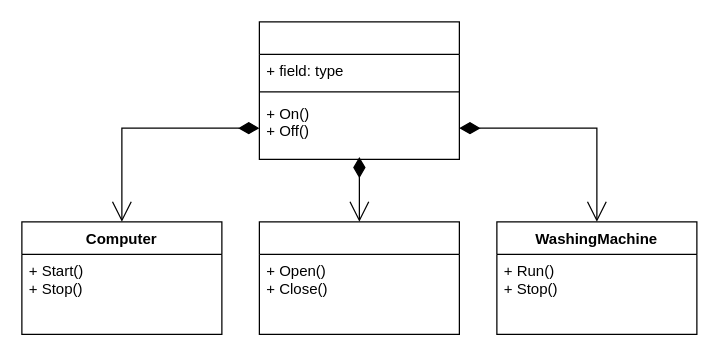
This 719x360 diagram has some shape labels left out. Here are the shapes that lost their labels. From the top down, the box of each, then its label:
(258, 21, 459, 159): Facade
(258, 221, 459, 334): TV
